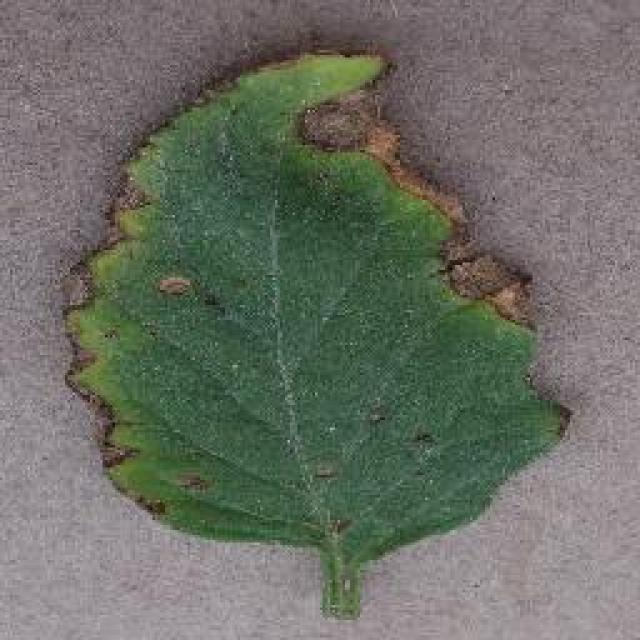Tomato___Bacterial_spot: (55, 43, 577, 616)
